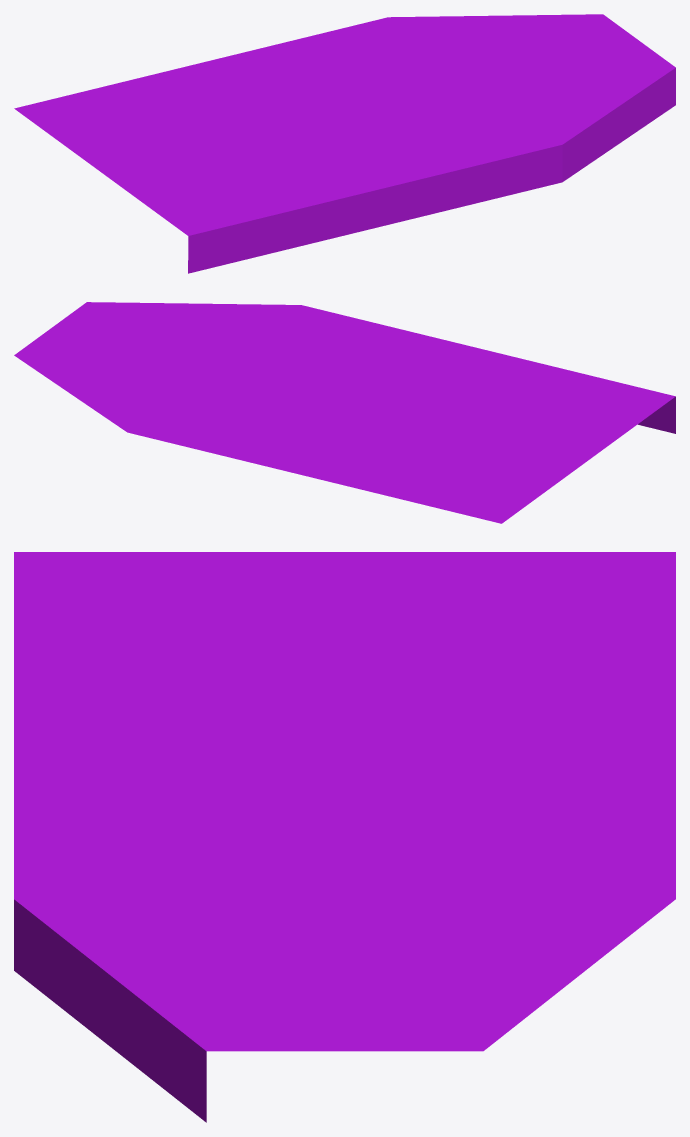
The model's file is ChaoFinal.fbx.
3 renders of one model, top to bottom at view 1: azimuth 30°, elevation 25°; view 2: azimuth 150°, elevation 25°; view 3: azimuth 270°, elevation 25°, orthographic. The views are drawn at different scales.
Visible parts, largest first — view 1: Chao2, Chao2.001; view 2: Chao2, Chao2.001; view 3: Chao2, Chao2.001.
Part boxes in pixels (x1=…): Chao2: x1=14, y1=14, x2=675, y2=235; Chao2.001: x1=188, y1=68, x2=675, y2=273; Chao2: x1=14, y1=302, x2=675, y2=523; Chao2.001: x1=638, y1=396, x2=675, y2=433; Chao2: x1=14, y1=552, x2=675, y2=1051; Chao2.001: x1=14, y1=899, x2=206, y2=1122.
Size of the model in its own units: 14419 by 963 by 8079.
